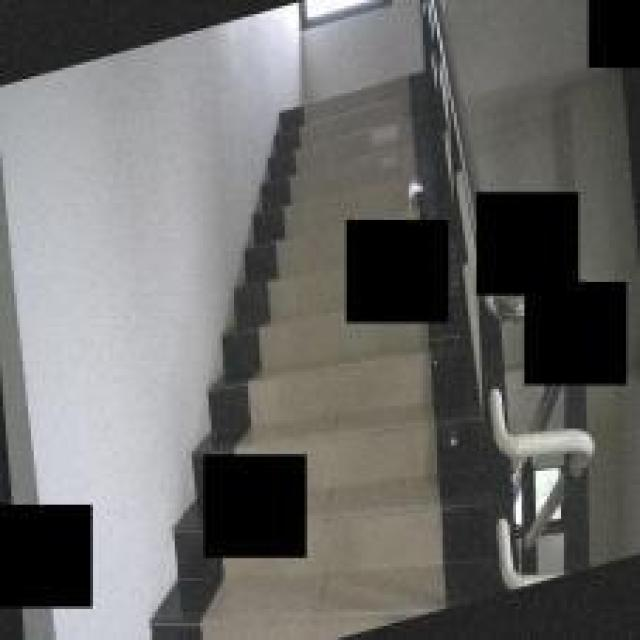upstair: (283, 91, 444, 215)
